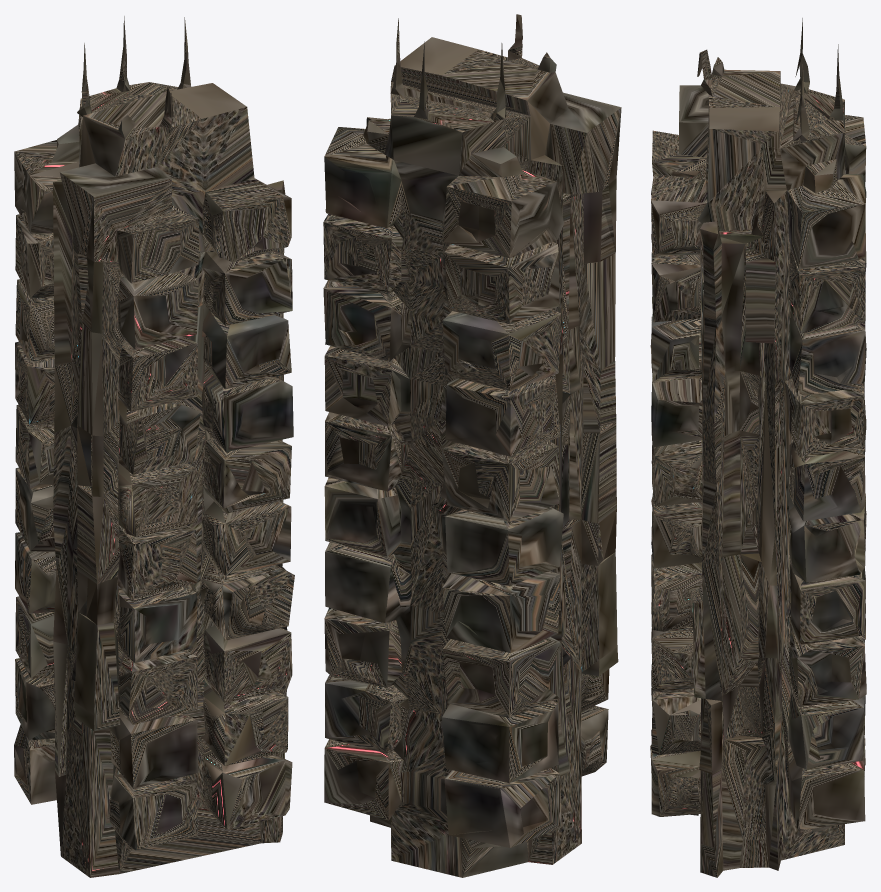
The model's file is b05_far.glb.
3 views of the same model, side by side, from view 1: azimuth 30°, elevation 25°; view 2: azimuth 150°, elevation 25°; view 3: azimuth 270°, elevation 25° (orthographic). The views are drawn at different scales.
Visible parts, largest first — view 1: b05_far; view 2: b05_far; view 3: b05_far.
Boxes of the visible parts, x1,y1,x2,y2 form: b05_far: [14, 16, 294, 877]; b05_far: [323, 14, 621, 877]; b05_far: [650, 18, 866, 877].
Size of the model in its own units: 17.06 by 60 by 14.9.
1 material, 1 textured.
